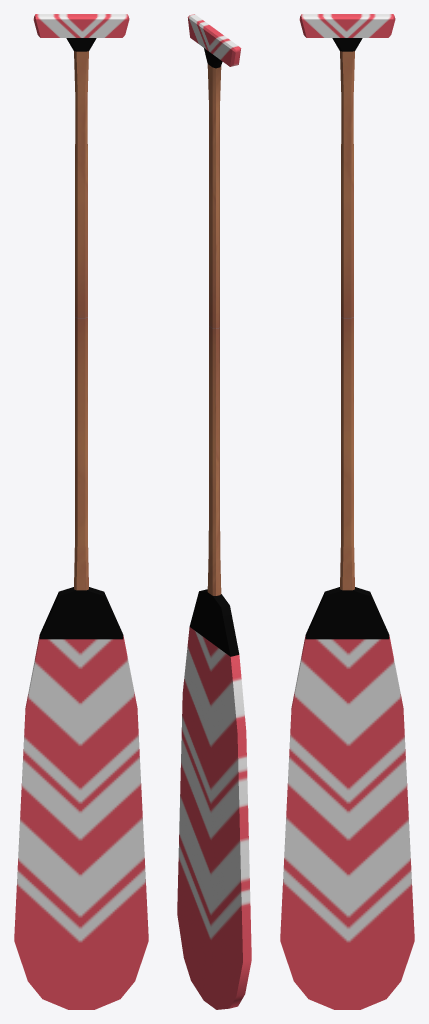
File: oar-5.fbx
3 views of the same model, side by side, from view 1: azimuth 90°, elevation 25°; view 2: azimuth 210°, elevation 25°; view 3: azimuth 270°, elevation 25° (orthographic).
Visible parts, largest first — view 1: pCube4; view 2: pCube4; view 3: pCube4.
Part boxes in pixels (bbox=[...]): pCube4: bbox=[14, 14, 148, 1009]; pCube4: bbox=[177, 14, 251, 1009]; pCube4: bbox=[280, 14, 414, 1009].
Size of the model in its own units: 0.4155 by 44.19 by 5.42.
1 material, 1 textured.
